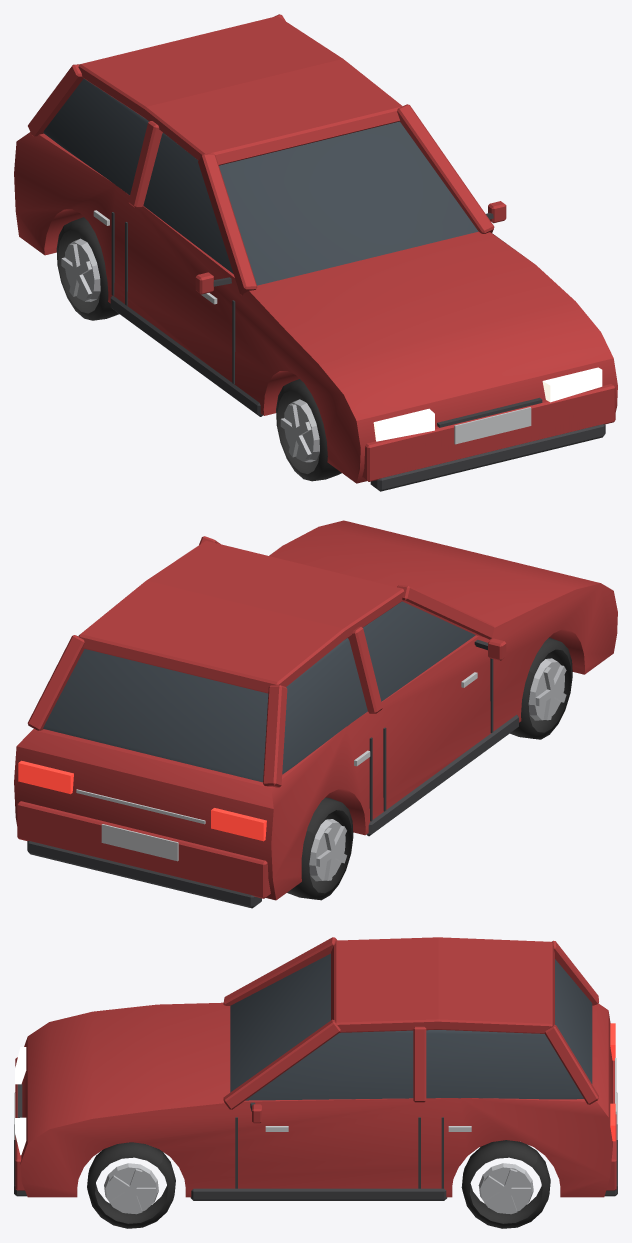
The model's file is car-red.glb.
The picture shows the model from 3 angles, top to bottom: view 1: azimuth 30°, elevation 25°; view 2: azimuth 150°, elevation 25°; view 3: azimuth 270°, elevation 25°; orthographic projection. The views are drawn at different scales.
Parts seen in each view (by area): view 1: car-red; view 2: car-red; view 3: car-red.
Boxes of the visible parts, left/top/right/bottom form: car-red: left=14, top=14, right=617, bottom=491; car-red: left=14, top=520, right=617, bottom=908; car-red: left=14, top=937, right=617, bottom=1228.
Size of the model in its own units: 2.1 by 1.53 by 4.19.
